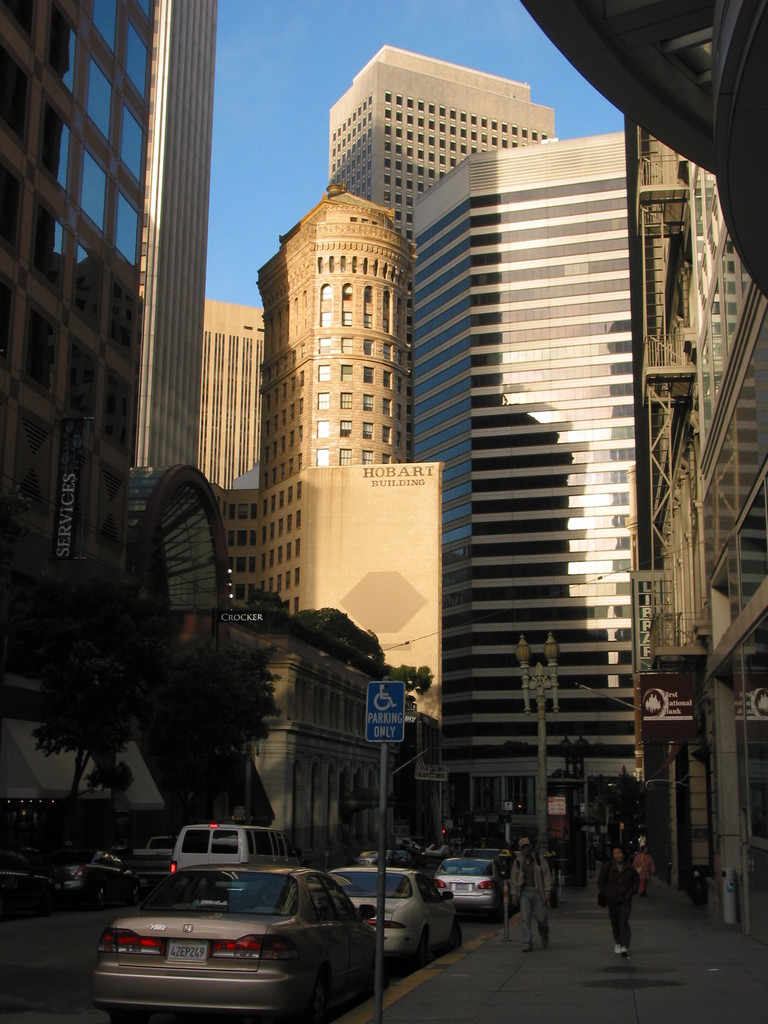mobil: (93, 862, 379, 1017), (339, 865, 462, 984)
